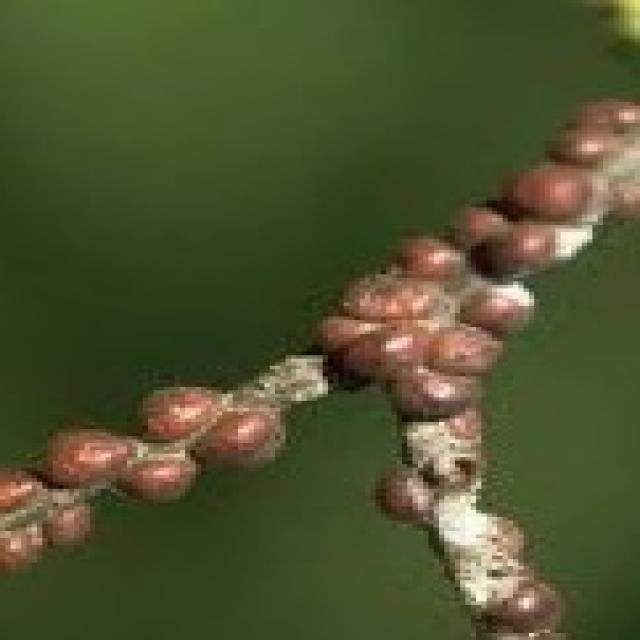BlackScale: (318, 102, 634, 422), (0, 372, 280, 570), (376, 464, 560, 636)
